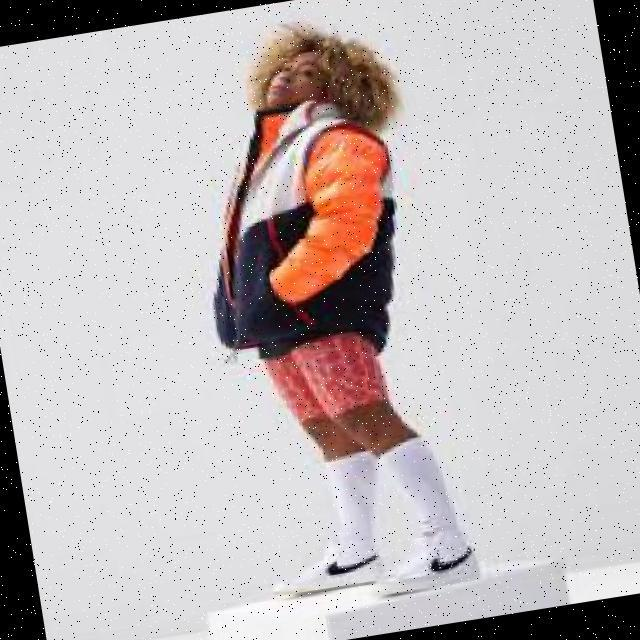Nike: (326, 546, 391, 577), (426, 541, 480, 572)
